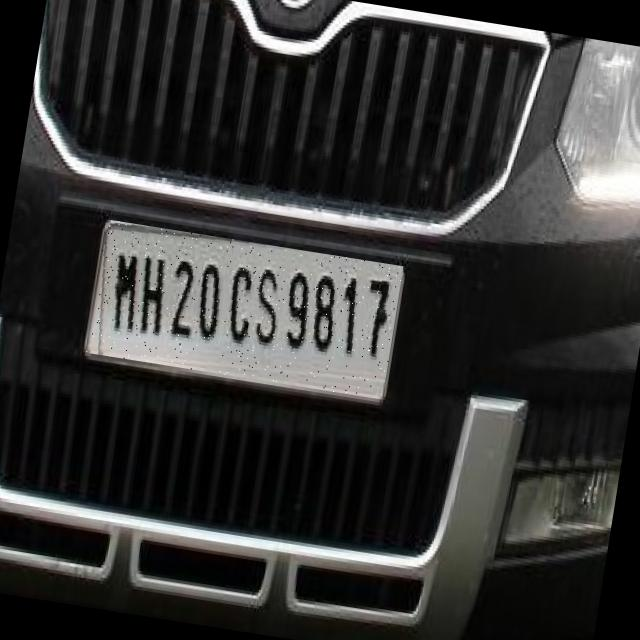Plate: (86, 221, 404, 401)
